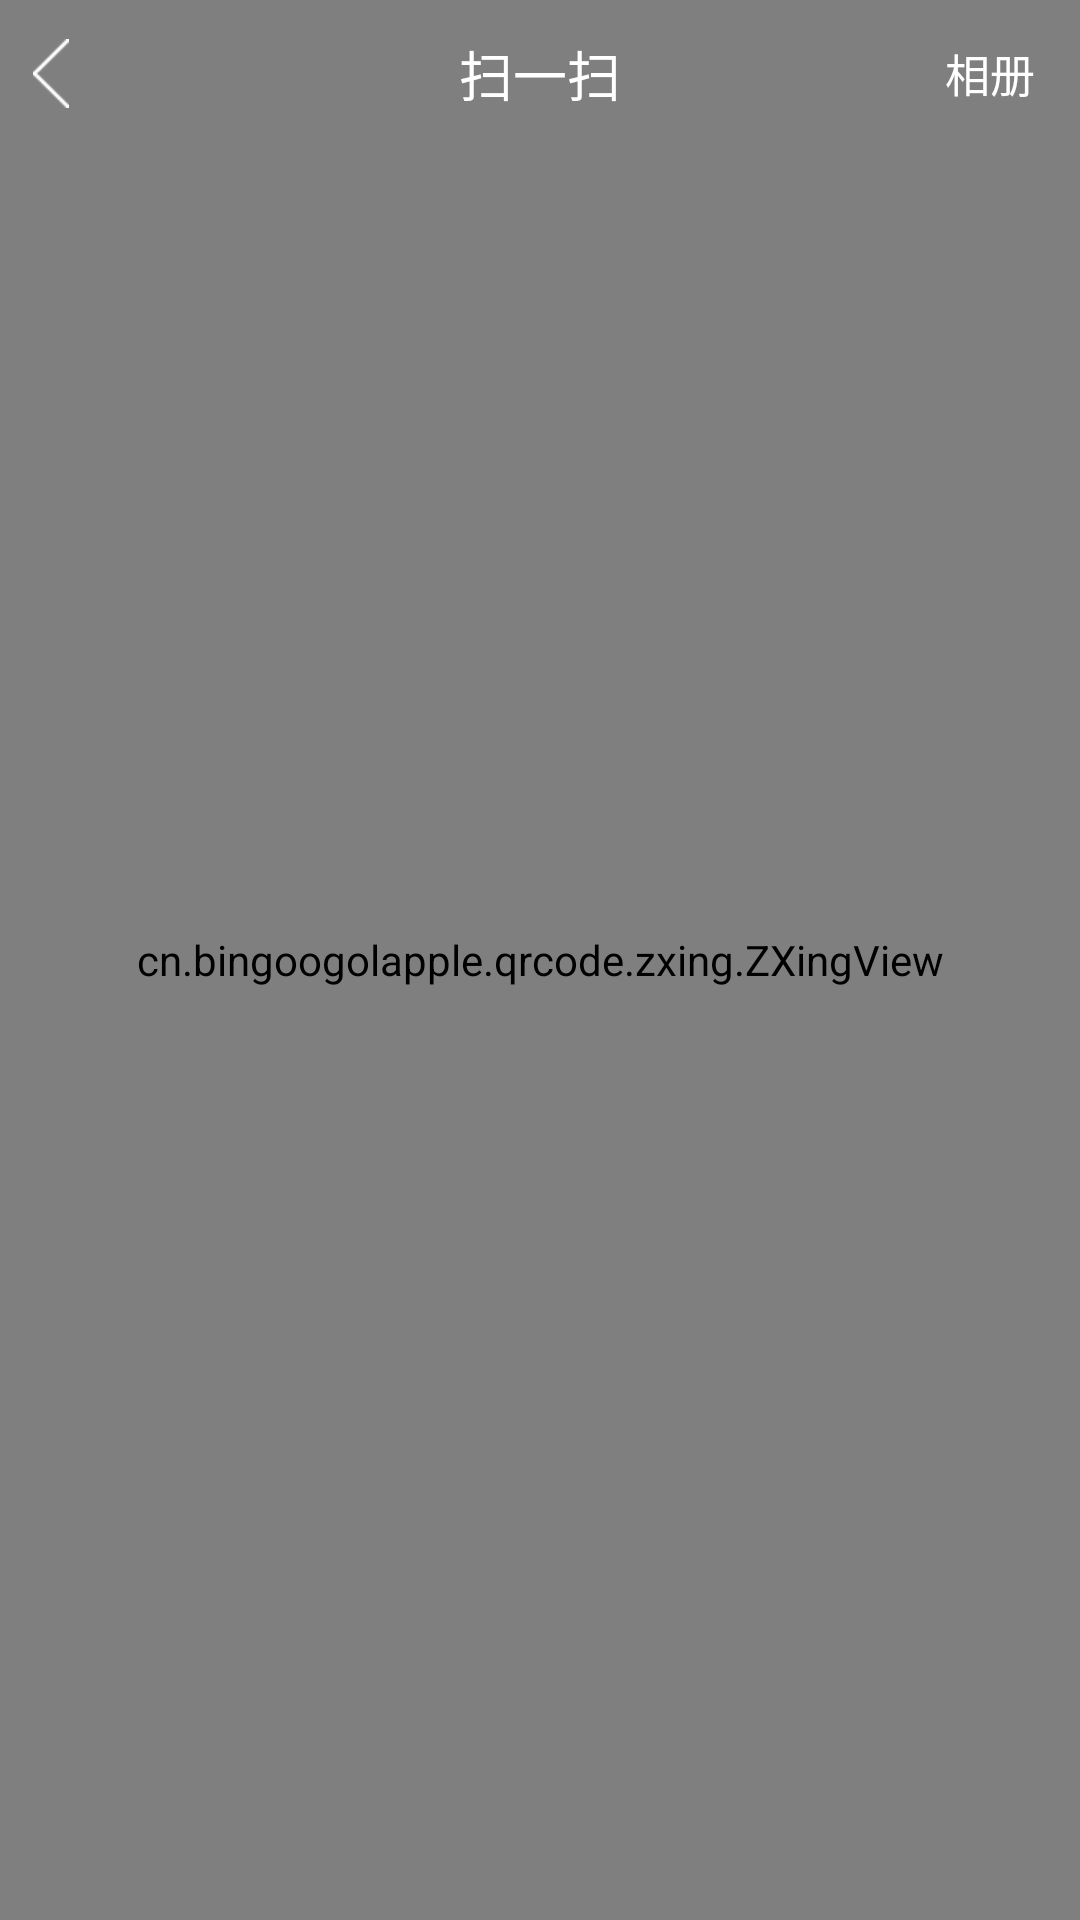

Where icons sit on this 1080×1920 app screen, as [x1,y1,x2,y2]:
back: [33,39,69,108]
